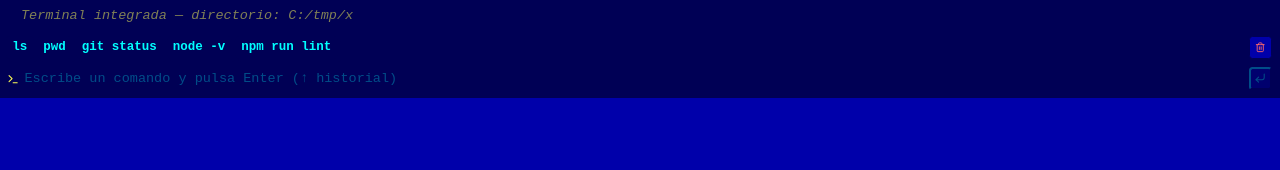
it: TerminalView › muestra el código de salida y la duración
Type "node -v" into the field with placeholder "Escribe un comando y pulsa Enter (↑ historial)" at (634, 79), box [24, 70, 1244, 89]
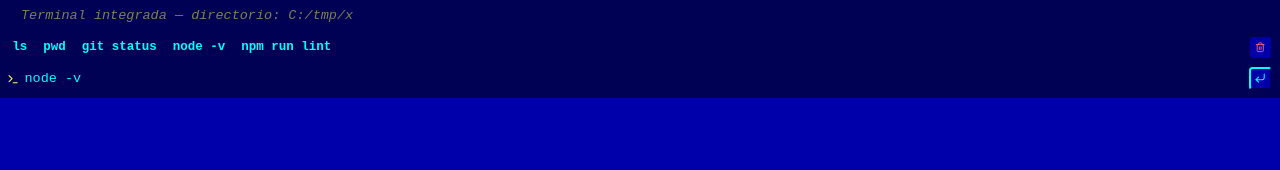
Press Enter in the field with placeholder "Escribe un comando y pulsa Enter (↑ historial)", box [24, 70, 1244, 89]
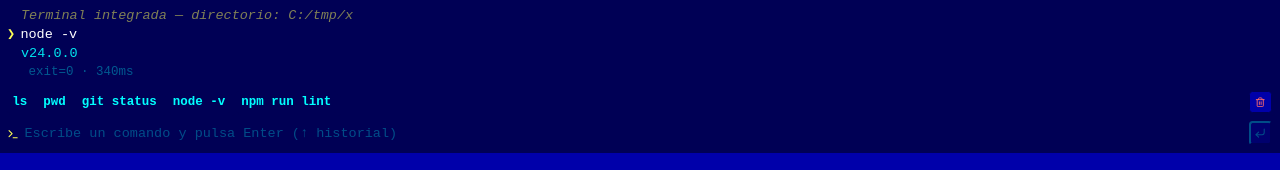
Check: the text "exit=0 · 340ms" is shown, box [21, 65, 134, 79]
